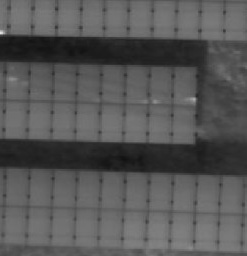solar: (2, 60, 31, 102), (26, 60, 55, 102), (51, 60, 80, 102), (74, 61, 103, 103), (99, 62, 128, 104), (123, 63, 152, 105), (147, 63, 176, 105), (169, 64, 198, 106), (1, 98, 30, 140), (26, 98, 55, 140), (49, 99, 78, 141), (75, 100, 104, 142), (98, 101, 127, 143), (122, 102, 151, 144), (145, 102, 174, 144), (168, 103, 197, 145), (2, 165, 31, 207), (26, 167, 55, 209), (49, 168, 78, 210), (74, 168, 103, 210), (98, 169, 127, 211), (123, 170, 152, 212), (146, 171, 175, 213), (169, 172, 198, 214), (194, 172, 223, 214), (216, 173, 245, 215), (25, 205, 54, 247), (50, 206, 79, 248), (73, 206, 102, 248), (96, 206, 125, 248), (120, 207, 149, 249), (144, 209, 173, 251), (168, 211, 197, 253), (191, 211, 220, 253), (216, 211, 245, 253), (197, 1, 226, 42), (174, 1, 203, 42), (149, 1, 178, 42), (125, 1, 154, 42), (1, 205, 29, 247)
